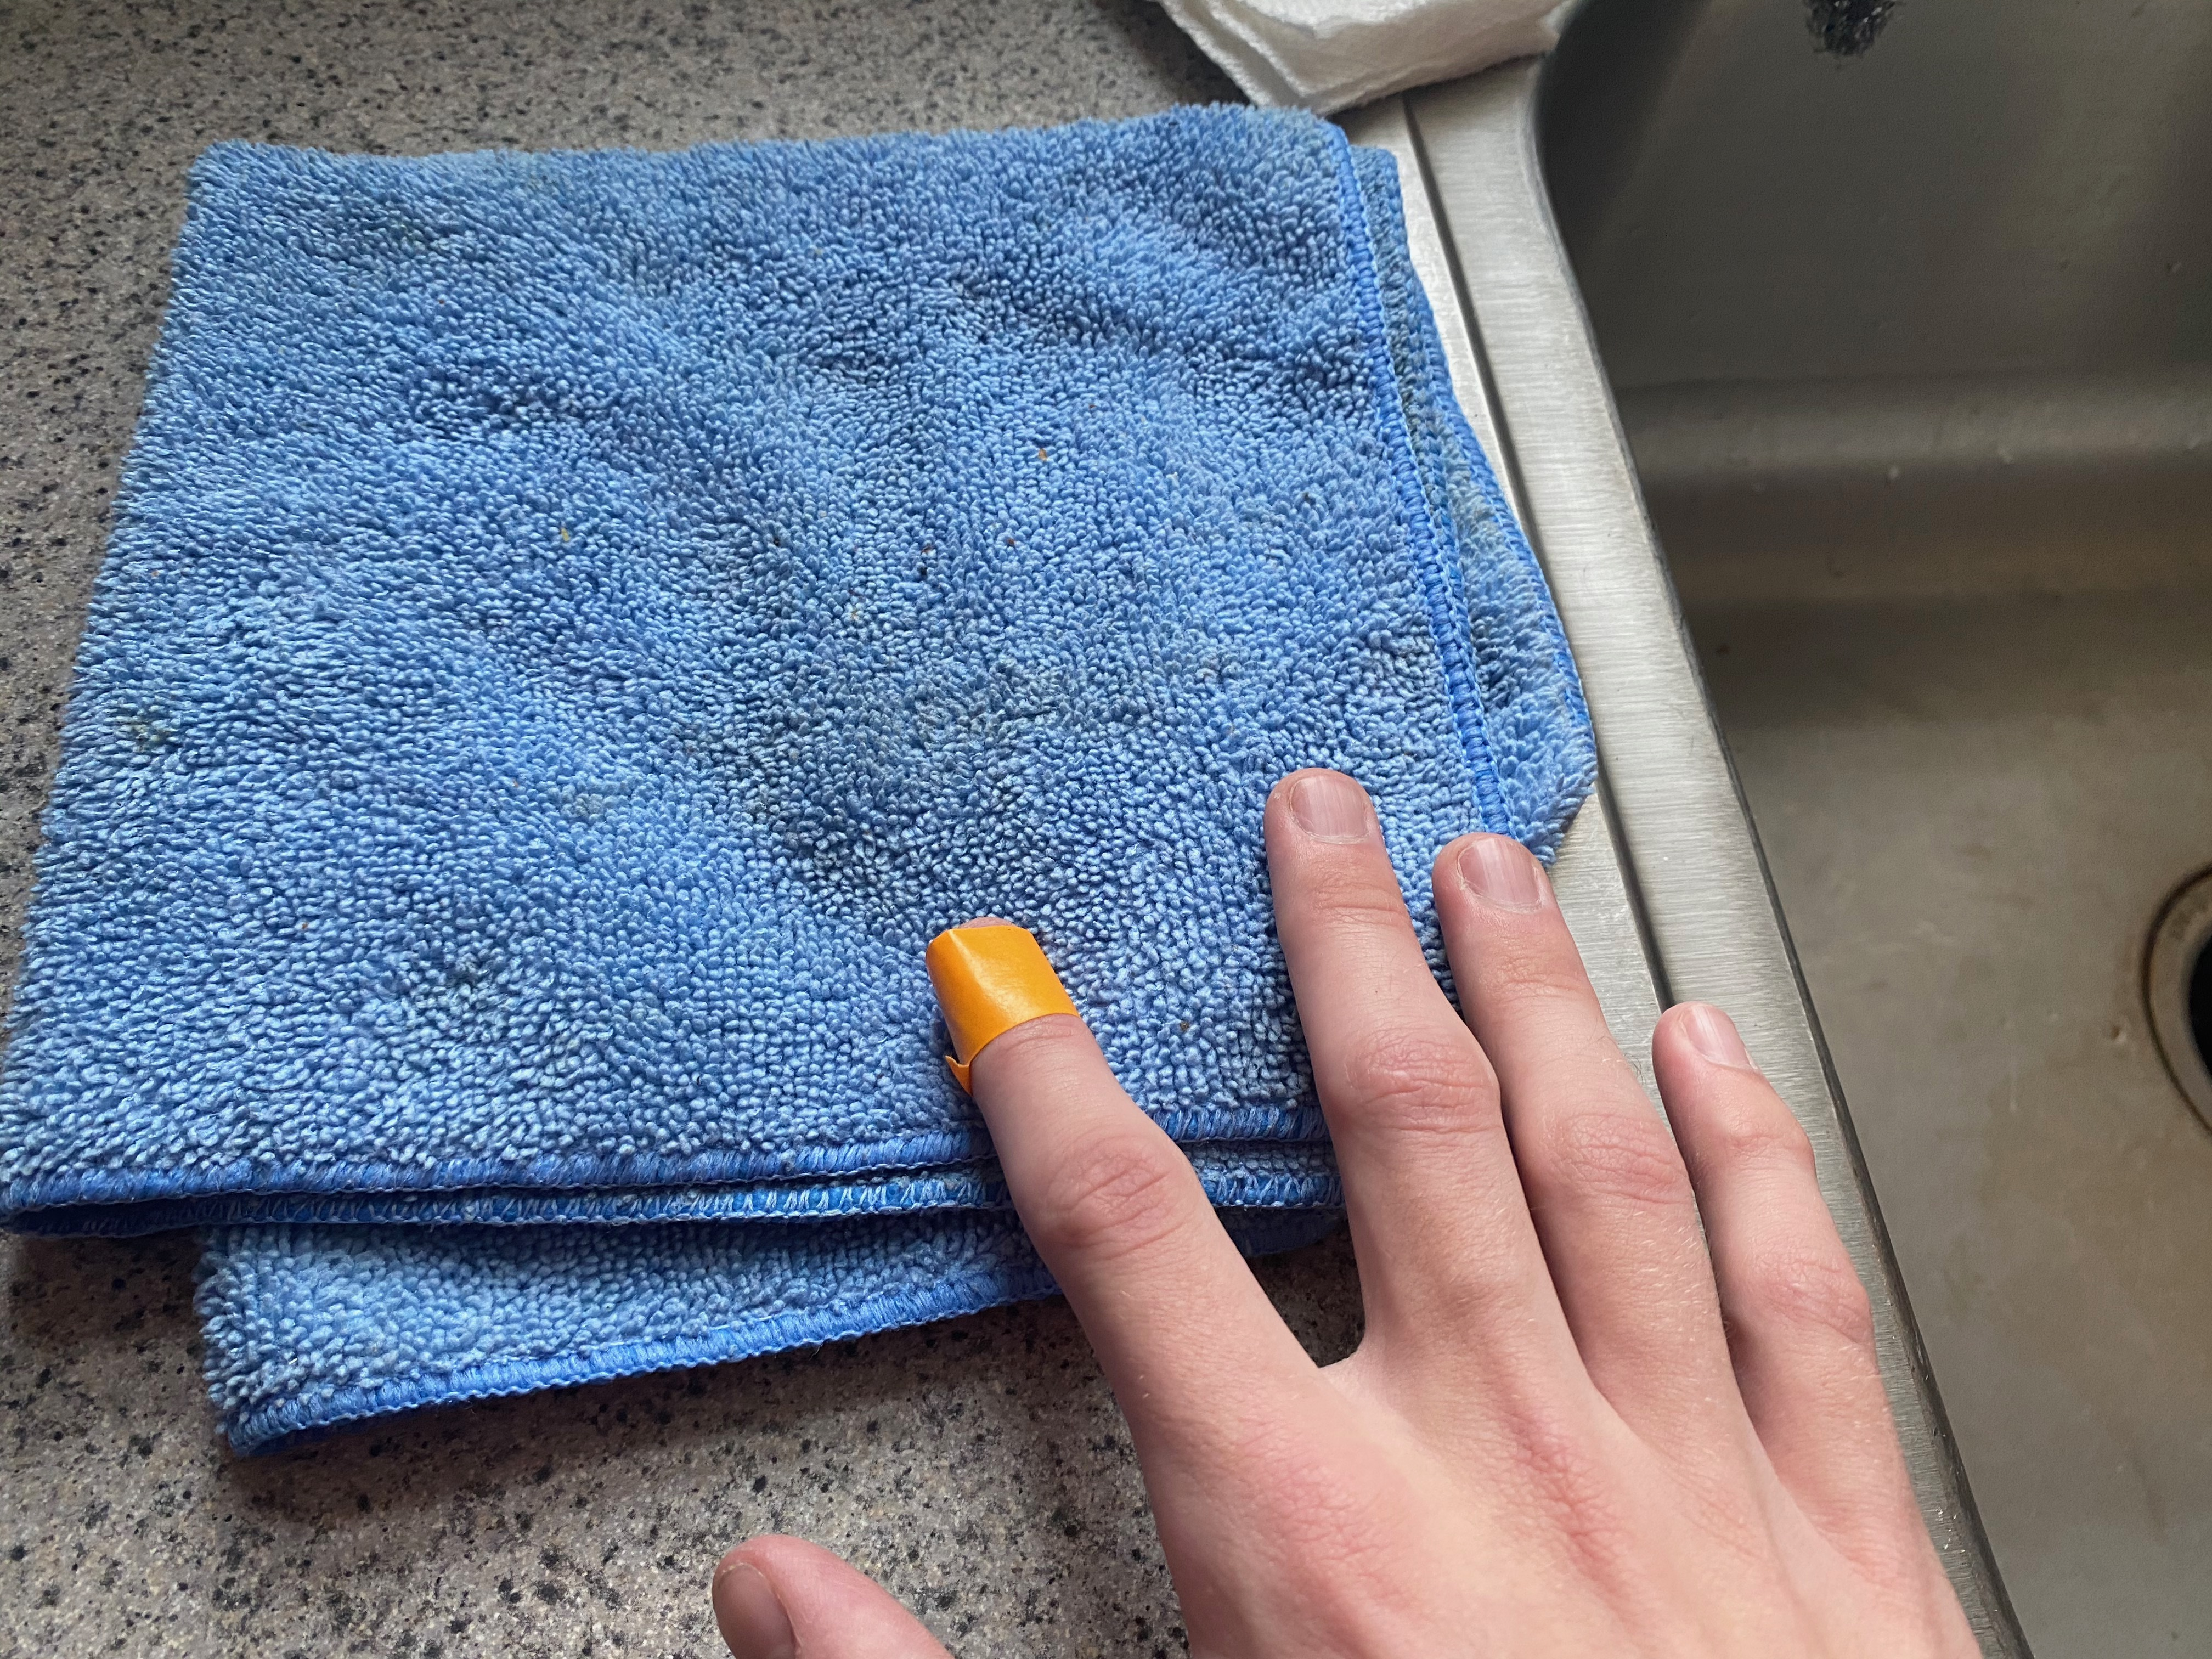fingertip: (900, 911, 1120, 1086)
